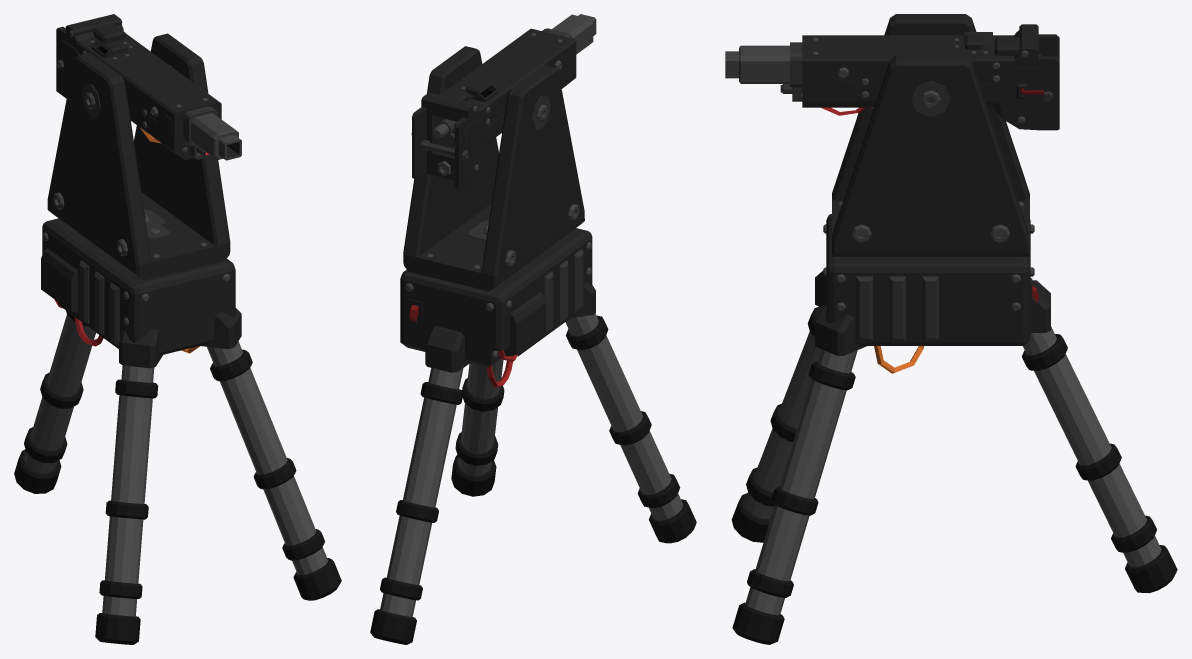
Rendered from Engineer Turret.fbx.
3 renders of one model, left to right at view 1: azimuth 30°, elevation 25°; view 2: azimuth 150°, elevation 25°; view 3: azimuth 270°, elevation 25°, orthographic. The views are drawn at different scales.
Parts seen in each view (by area): view 1: Cylinder, Swivel, Pivot, Barrel; view 2: Cylinder, Swivel, Pivot, Barrel; view 3: Cylinder, Swivel, Pivot, Barrel.
Part boxes in pixels (left/top/right/bottom): Cylinder: left=14, top=218, right=341, bottom=644; Swivel: left=47, top=33, right=230, bottom=280; Pivot: left=56, top=14, right=221, bottom=160; Barrel: left=191, top=113, right=241, bottom=160; Cylinder: left=370, top=228, right=696, bottom=644; Swivel: left=403, top=46, right=584, bottom=291; Pivot: left=411, top=28, right=576, bottom=189; Barrel: left=552, top=14, right=596, bottom=54; Cylinder: left=731, top=214, right=1177, bottom=644; Swivel: left=832, top=14, right=1029, bottom=256; Pivot: left=780, top=24, right=1059, bottom=130; Barrel: left=725, top=45, right=789, bottom=83.
Bounding box in the file's own units: 73.58 × 148 × 110.
